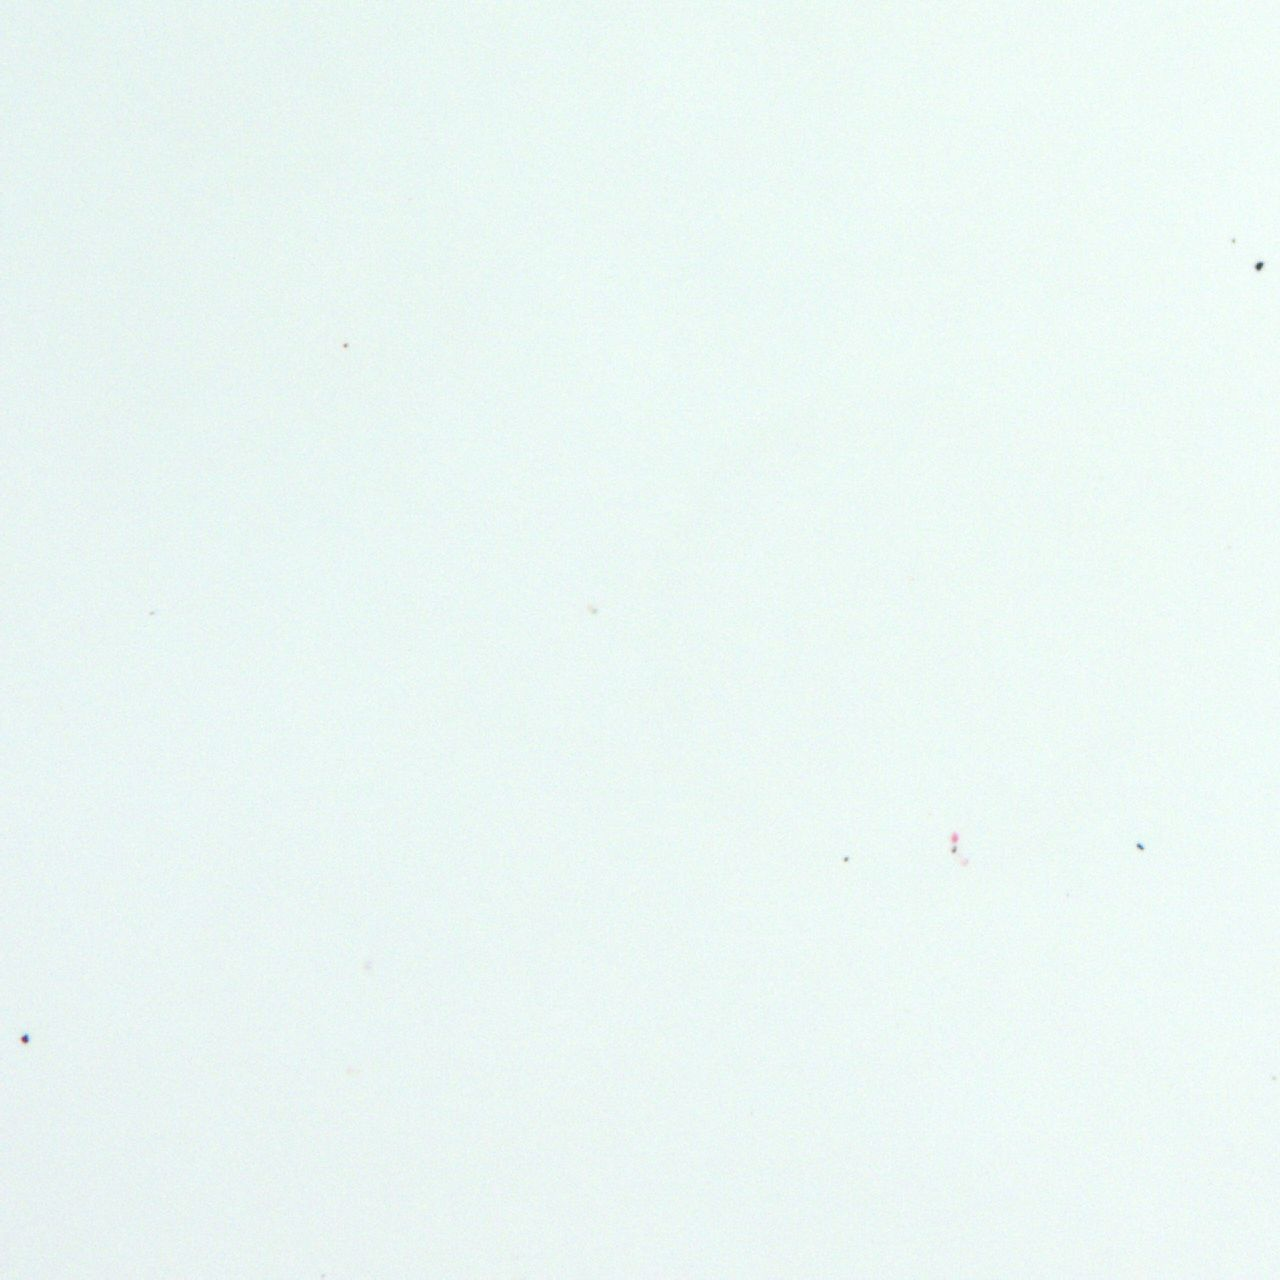dust: (1253, 256, 1271, 276), (1224, 232, 1241, 247), (19, 1033, 30, 1043), (840, 856, 850, 866), (1136, 840, 1145, 849), (951, 846, 958, 857)
